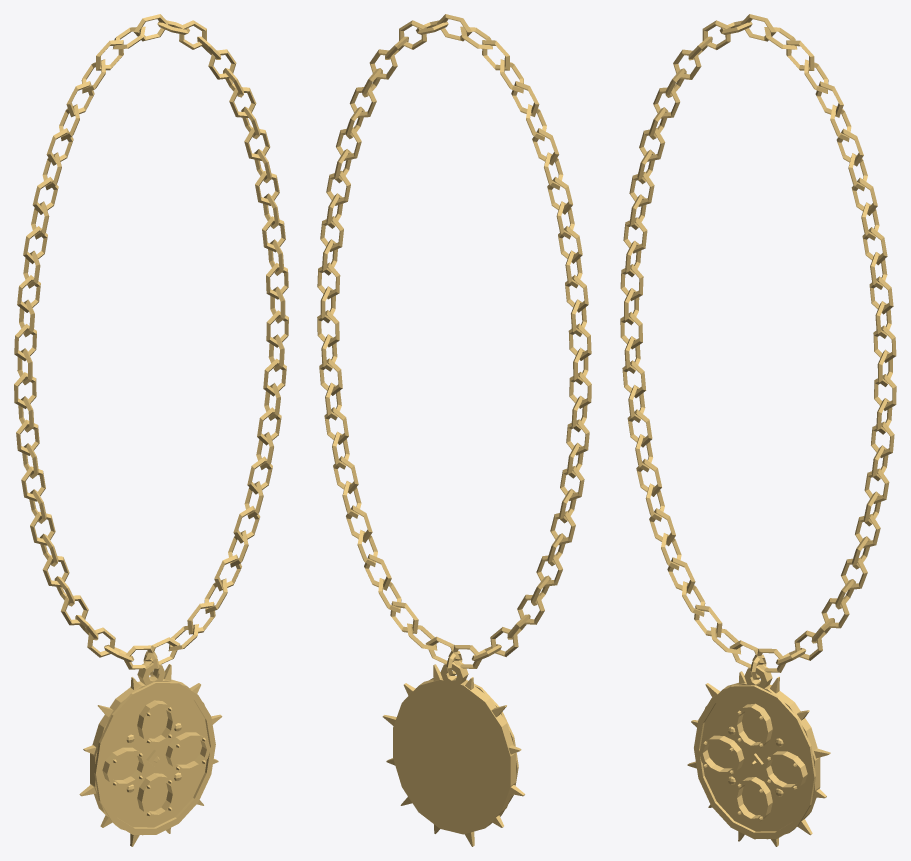
Rendered from collar magico.fbx.
The picture shows the model from 3 angles, left to right: view 1: azimuth 30°, elevation 25°; view 2: azimuth 150°, elevation 25°; view 3: azimuth 330°, elevation 25°; orthographic projection.
Visible parts, largest first — view 1: cadena, medallon; view 2: cadena, medallon; view 3: cadena, medallon.
Part boxes in pixels (x1=…): cadena: x1=14, y1=14, x2=288, y2=669; medallon: x1=79, y1=661, x2=222, y2=846; cadena: x1=317, y1=14, x2=591, y2=668; medallon: x1=382, y1=661, x2=524, y2=846; cadena: x1=620, y1=14, x2=896, y2=672; medallon: x1=687, y1=664, x2=830, y2=846.
Size of the model in its own units: 8.7 by 24.98 by 0.9.
